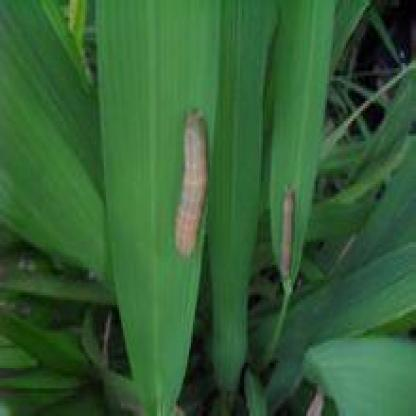armyworm: (173, 103, 211, 261), (276, 182, 300, 283)
